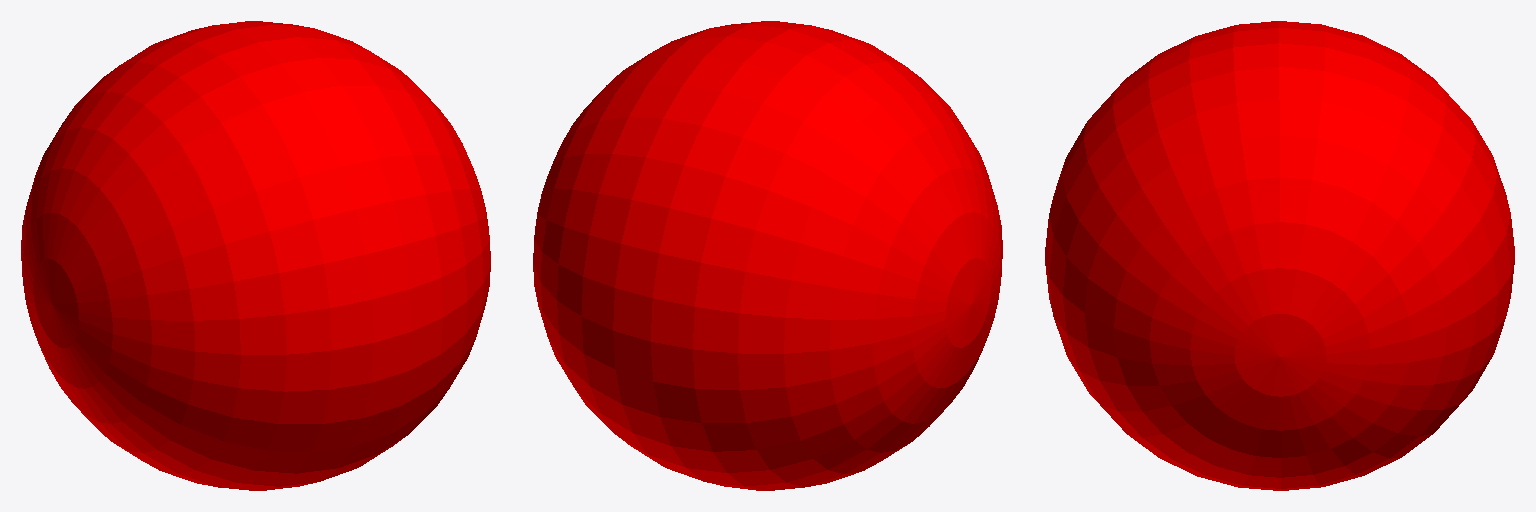
The robot description file, URDF, robot "panda":
<?xml version='1.0' encoding='utf-8'?>
<robot name="panda">
  
  <link name="panda_link0">
    <visual>
      <geometry>
        <mesh filename="package://franka_description/meshes/visual/link0.dae" />
      </geometry>
    </visual>
  </link>
  <link name="panda_link1">
    <visual>
      <geometry>
        <mesh filename="package://franka_description/meshes/visual/link1.dae" />
      </geometry>
    </visual>
  </link>
  
  
  <joint name="panda_joint1" type="revolute">
    <origin rpy="1.443060036170693e-06 -1.1141116109698583e-08 4.155029228558349e-17" xyz="-4.718650895518294e-17 1.8269338078033916e-17 0.3330000000000001" />
    <parent link="panda_link0" />
    <child link="panda_link1" />
    <axis xyz="0 0 1" />
    <limit effort="87.0" lower="-2.8973" upper="2.8973" velocity="2.175" />
    <safety_controller k_position="100.0" k_velocity="40.0" soft_lower_limit="-2.8973" soft_upper_limit="2.8973" />
  </joint>
  
  <link name="panda_link2">
    <visual>
      <geometry>
        <mesh filename="package://franka_description/meshes/visual/link2.dae" />
      </geometry>
    </visual>
  </link>
  
  <joint name="panda_joint2" type="revolute">
    <origin rpy="-1.569224519569118 0.00025953051430076826 -1.231885684286843e-12" xyz="-0.00030272394705944304 0.0001314392452688879 9.108197157677059e-17" />
    <parent link="panda_link1" />
    <child link="panda_link2" />
    <axis xyz="0 0 1" />
    <limit effort="87.0" lower="-1.7628" upper="1.7628" velocity="2.175" />
    <safety_controller k_position="100.0" k_velocity="40.0" soft_lower_limit="-1.7628" soft_upper_limit="1.7628" />
  </joint>
  
  <link name="panda_link3">
    <visual>
      <geometry>
        <mesh filename="package://franka_description/meshes/visual/link3.dae" />
      </geometry>
    </visual>
  </link>
  
  <joint name="panda_joint3" type="revolute">
    <origin rpy="1.5699519202736834 0.0001772122188351117 0.000170842570736644" xyz="0.0002806590580034444 -0.31598109159365023 0.0001314389571123128" />
    <parent link="panda_link2" />
    <child link="panda_link3" />
    <axis xyz="0 0 1" />
    <limit effort="87.0" lower="-2.8973" upper="2.8973" velocity="2.175" />
    <safety_controller k_position="100.0" k_velocity="40.0" soft_lower_limit="-2.8973" soft_upper_limit="2.8973" />
  </joint>
  
  <link name="panda_link4">
    <visual>
      <geometry>
        <mesh filename="package://franka_description/meshes/visual/link4.dae" />
      </geometry>
    </visual>
  </link>
  
  <joint name="panda_joint4" type="revolute">
    <origin rpy="1.570329238798954 0.003634167542939902 -0.0001726478966157702" xyz="0.0821772511639403 -5.357729068531642e-05 -1.874942118968558e-05" />
    <parent link="panda_link3" />
    <child link="panda_link4" />
    <axis xyz="0 0 1" />
    <limit effort="87.0" lower="-3.0718" upper="-0.0698" velocity="2.175" />
    <safety_controller k_position="100.0" k_velocity="40.0" soft_lower_limit="-3.0718" soft_upper_limit="-0.0698" />
  </joint>
  
  <link name="panda_link5">
    <visual>
      <geometry>
        <mesh filename="package://franka_description/meshes/visual/link5.dae" />
      </geometry>
    </visual>
  </link>
  
  <joint name="panda_joint5" type="revolute">
    <origin rpy="-1.5704333701293198 0.0014558181290433314 -0.0032984710877434252" xyz="-0.08166184278074558 0.38416878967114904 5.362369925985596e-05" />
    <parent link="panda_link4" />
    <child link="panda_link5" />
    <axis xyz="0 0 1" />
    <limit effort="12.0" lower="-2.8973" upper="2.8973" velocity="2.61" />
    <safety_controller k_position="100.0" k_velocity="40.0" soft_lower_limit="-2.8973" soft_upper_limit="2.8973" />
  </joint>
  
  <link name="panda_link6">
    <visual>
      <geometry>
        <mesh filename="package://franka_description/meshes/visual/link6.dae" />
      </geometry>
    </visual>
  </link>
  
  <joint name="panda_joint6" type="revolute">
    <origin rpy="1.567932496342769 0.00015208320336658598 0.0014546210159514484" xyz="-4.8597064810259795e-05 0.0004293227821836948 0.00017157328439707152" />
    <parent link="panda_link5" />
    <child link="panda_link6" />
    <axis xyz="0 0 1" />
    <limit effort="12.0" lower="-0.0175" upper="3.7525" velocity="2.61" />
    <safety_controller k_position="100.0" k_velocity="40.0" soft_lower_limit="-0.0175" soft_upper_limit="3.7525" />
  </joint>
  
  <link name="panda_link7">
    <visual>
      <geometry>
        <mesh filename="package://franka_description/meshes/visual/link7.dae" />
      </geometry>
    </visual>
  </link>
  
  <joint name="panda_joint7" type="revolute">
    <origin rpy="1.5709182503980177 -2.2182325530324566e-08 -6.317227097718112e-05" xyz="0.08770649743939672 -0.0009630206421383316 -0.00042889992127301946" />
    <parent link="panda_link6" />
    <child link="panda_link7" />
    <axis xyz="0 0 1" />
    <limit effort="12.0" lower="-2.8973" upper="2.8973" velocity="2.61" />
    <safety_controller k_position="100.0" k_velocity="40.0" soft_lower_limit="-2.8973" soft_upper_limit="2.8973" />
  </joint>
  <link name="panda_link8" />
  <joint name="panda_joint8" type="fixed">
    <origin rpy="0 0 0" xyz="0 0 0.107" />
    <parent link="panda_link7" />
    <child link="panda_link8" />
  </joint>
  <joint name="panda_hand_joint" type="fixed">
    <parent link="panda_link8" />
    <child link="panda_hand" />
    <origin rpy="0 0 -0.7853981633974483" xyz="0 0 0" />
  </joint>
  
  <link name="panda_hand">
    <visual>
      <geometry>
        <mesh filename="package://franka_description/meshes/visual/hand.dae" />
      </geometry>
    </visual>
  </link>
  <link name="panda_hand_tcp" />
  <joint name="panda_hand_tcp_joint" type="fixed">
    <origin rpy="0 0 0" xyz="0 0 0.1034" />
    <parent link="panda_hand" />
    <child link="panda_hand_tcp" />
  </joint>
  <link name="ball_link">
    <visual>
      <material name="red">
        <color rgba="1 0 0 1" />
      </material>

      <geometry>
        <sphere radius="0.005" />
      </geometry>
    </visual>
  </link>

  <joint name="ball_joint" type="fixed">
    <origin rpy="0.0 0.0 0.0" xyz="0.0003778447912426314 0.00017972692094397734 0.031091389390698887" />
    <parent link="panda_hand_tcp" />
    <child link="ball_link" />
  </joint>
  <link name="panda_leftfinger">
    <visual>
      <geometry>
        <mesh filename="package://franka_description/meshes/visual/finger.dae" />
      </geometry>
    </visual>
  </link>
  <link name="panda_rightfinger">
    <visual>
      <origin rpy="0 0 3.141592653589793" xyz="0 0 0" />
      <geometry>
        <mesh filename="package://franka_description/meshes/visual/finger.dae" />
      </geometry>
    </visual>
  </link>

    <joint name="panda_finger_joint1" type="prismatic">
    <parent link="panda_hand" />
    <child link="panda_leftfinger" />
    <origin rpy="0 0 0" xyz="0 0 0.0584" />
    <axis xyz="0 1 0" />
    <limit effort="100" lower="0.0" upper="0.04" velocity="0.2" />
    <dynamics damping="0.3" />
  </joint>
  <joint name="panda_finger_joint2" type="prismatic">
    <parent link="panda_hand" />
    <child link="panda_rightfinger" />
    <origin rpy="0 0 0" xyz="0 0 0.0584" />
    <axis xyz="0 -1 0" />
    <limit effort="100" lower="0.0" upper="0.04" velocity="0.2" />
    <mimic joint="panda_finger_joint1" />
    <dynamics damping="0.3" />
  </joint>
</robot>

--- Facts derived from the render (not from the file) ---
3 views of the same robot in one strip: view 1: azimuth 30°, elevation 25°; view 2: azimuth 150°, elevation 25°; view 3: azimuth 270°, elevation 25° (orthographic).
Robot: panda — 14 links, 13 joints (7 revolute, 2 prismatic, 4 fixed); root link panda_link0; default pose: joints at zero except 1 at the middle of their limits (panda_joint4 = -1.57).
Links seen in each view (by area): view 1: ball_link; view 2: ball_link; view 3: ball_link.
Link boxes in pixels (bbox=[...]): ball_link: bbox=[21, 21, 490, 490]; ball_link: bbox=[533, 21, 1002, 490]; ball_link: bbox=[1045, 21, 1514, 490].
Size in the robot's own frame: 0.01 by 0.01 by 0.01 metres.
0 mesh visuals loaded from 10 distinct referenced files (none loaded); not drawn: 11 (reference not matched to a file when rendering).